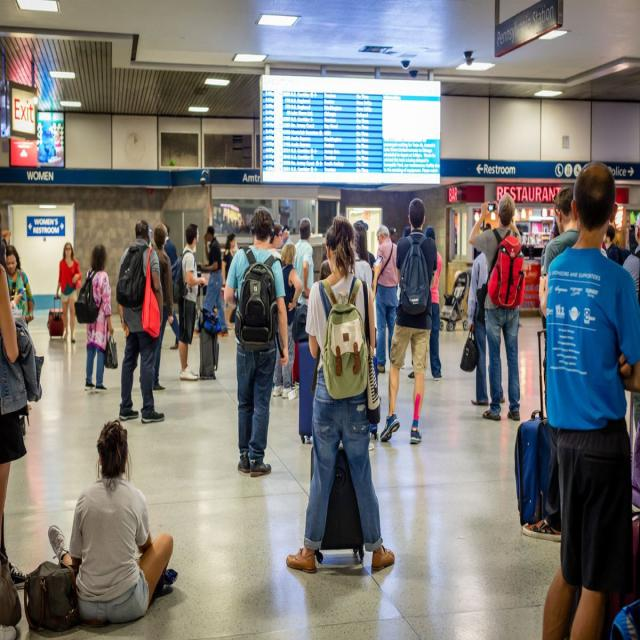body: (539, 158, 640, 640), (284, 212, 396, 573), (45, 417, 175, 626), (520, 186, 580, 543), (222, 208, 288, 482), (377, 197, 440, 446), (0, 264, 45, 595), (467, 192, 529, 422), (114, 218, 166, 424), (459, 225, 506, 408), (73, 239, 120, 394), (171, 222, 206, 383), (407, 226, 443, 380), (272, 240, 304, 400), (371, 224, 399, 374), (150, 221, 174, 392), (48, 238, 83, 346), (196, 225, 230, 336), (153, 222, 180, 351), (540, 218, 561, 376), (212, 208, 317, 235), (4, 244, 35, 327), (348, 220, 376, 302), (292, 216, 315, 307), (0, 239, 27, 312), (348, 222, 374, 294), (622, 211, 640, 301), (601, 223, 623, 266), (221, 231, 236, 287), (267, 223, 288, 259), (316, 257, 334, 279), (279, 226, 294, 244), (388, 227, 396, 243), (404, 221, 412, 237)
